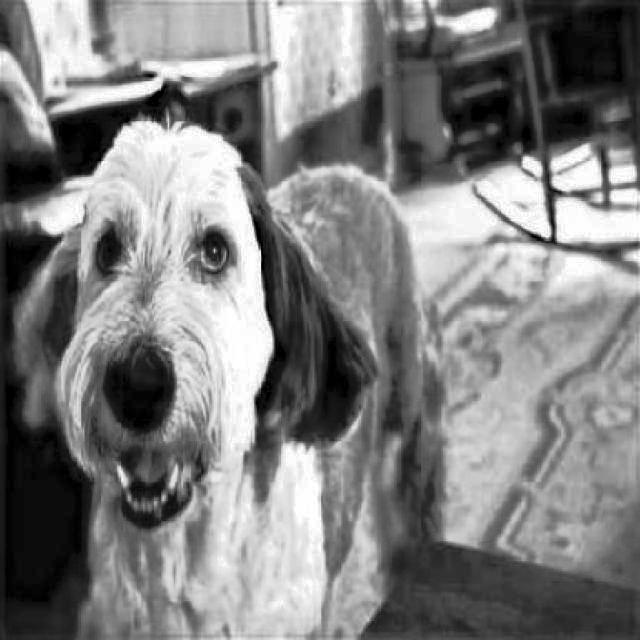Dog: (12, 86, 451, 640)
